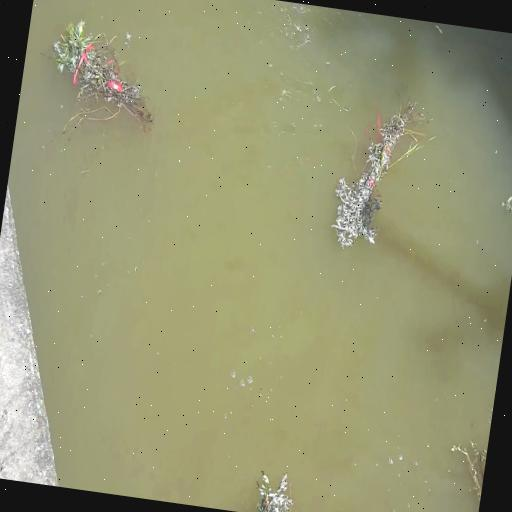twig: (326, 80, 438, 258), (40, 15, 167, 142)
